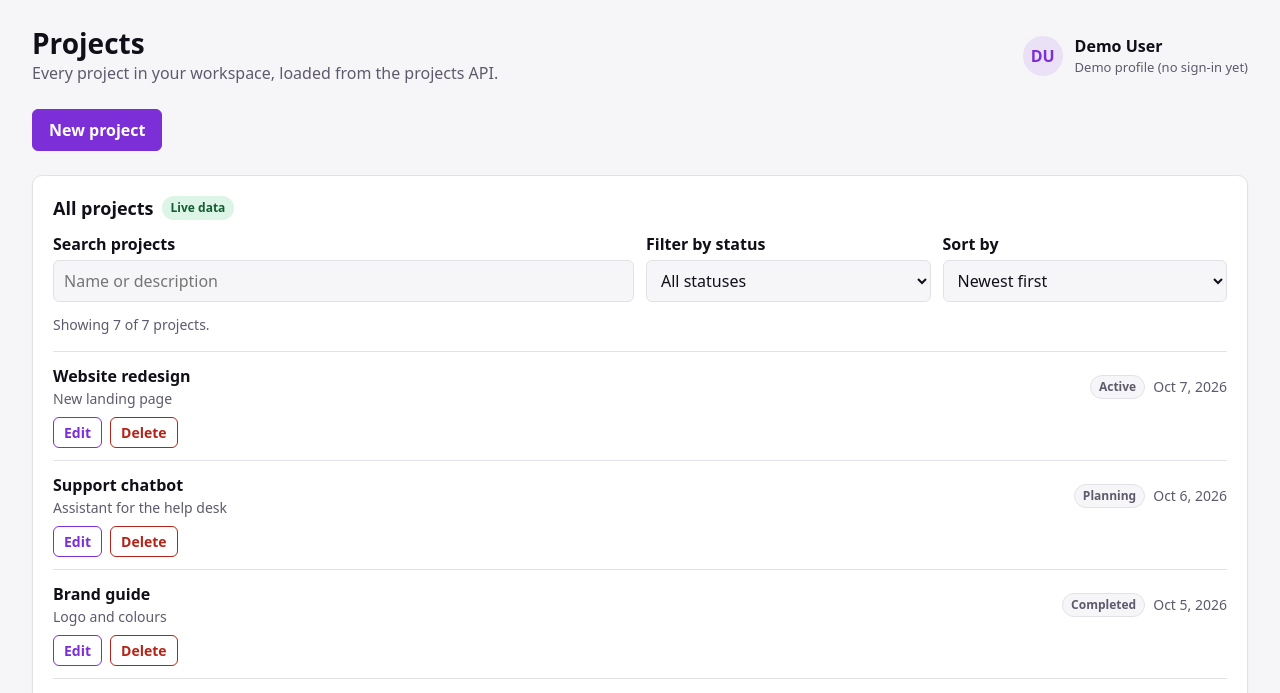
Test: Projects page: create, edit, delete › edits a project and shows the saved change
Click the button with aria-label "Edit Brand guide". click: (78, 650)
box: [53,635,102,666]
(page scrolled)
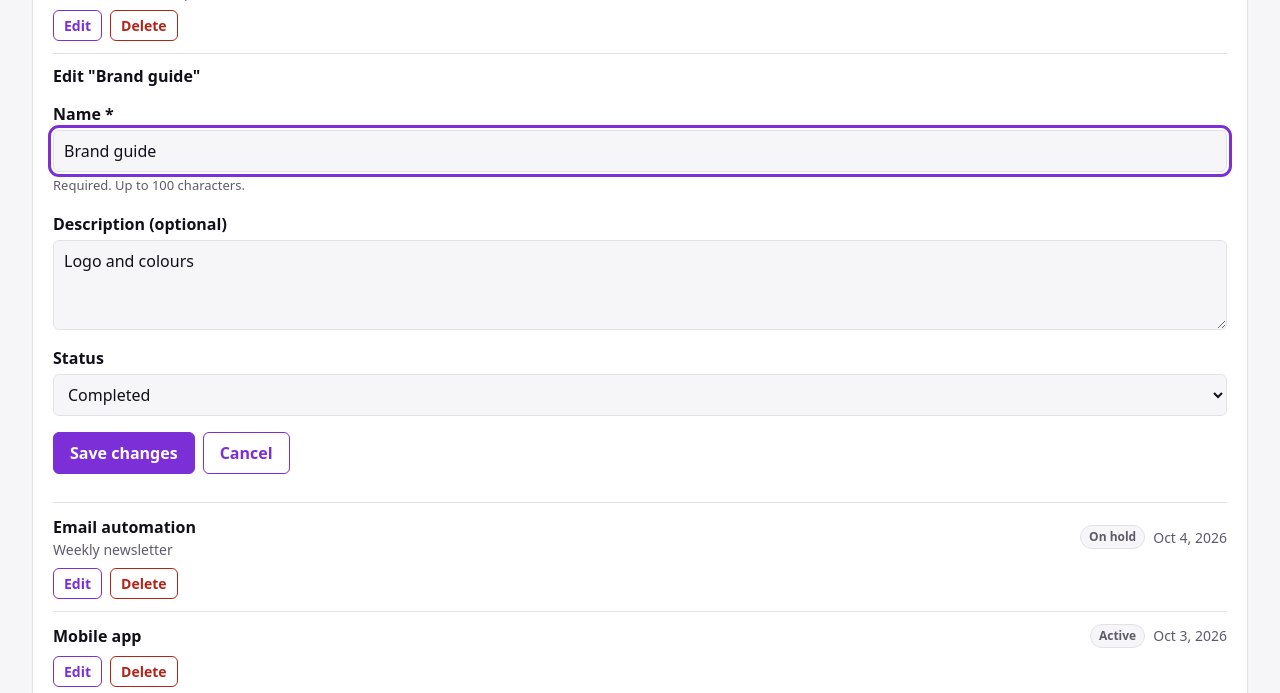
Select "On hold" in the dropdown labelled "Status". click: (640, 394)
box: [53,374,1227,416]
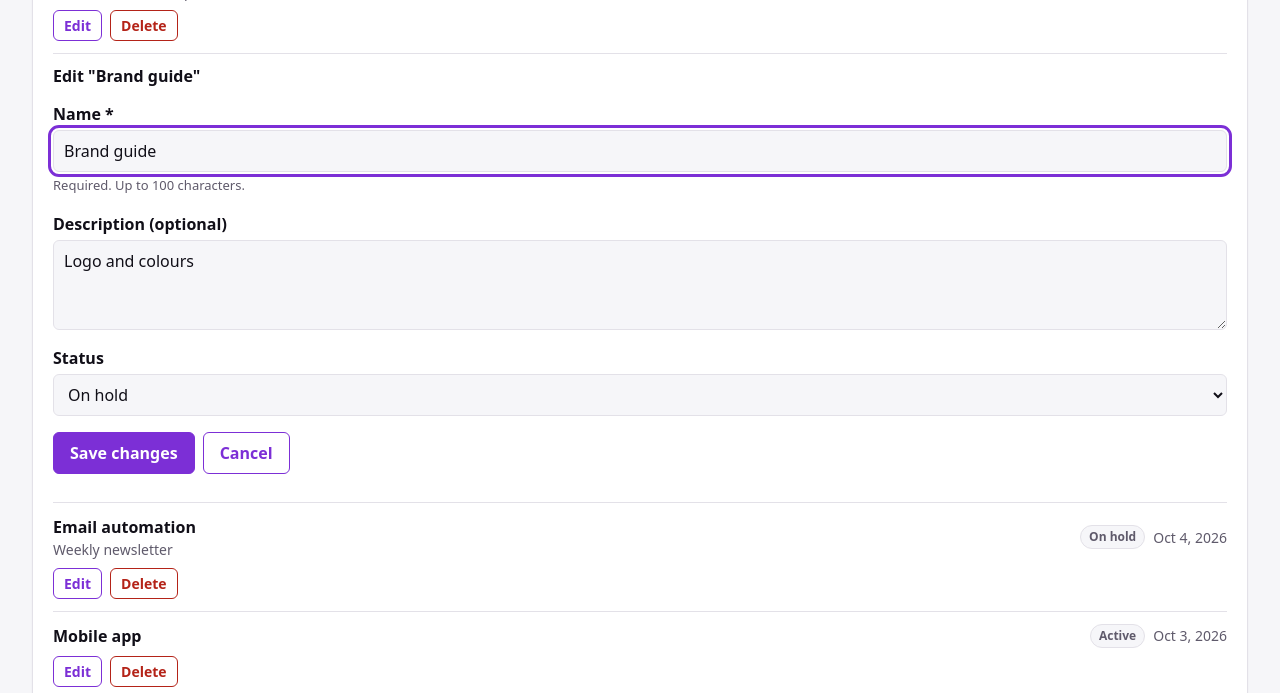
Click the button "Save changes". click: (124, 452)
box: [53,432,195,474]
(page scrolled)
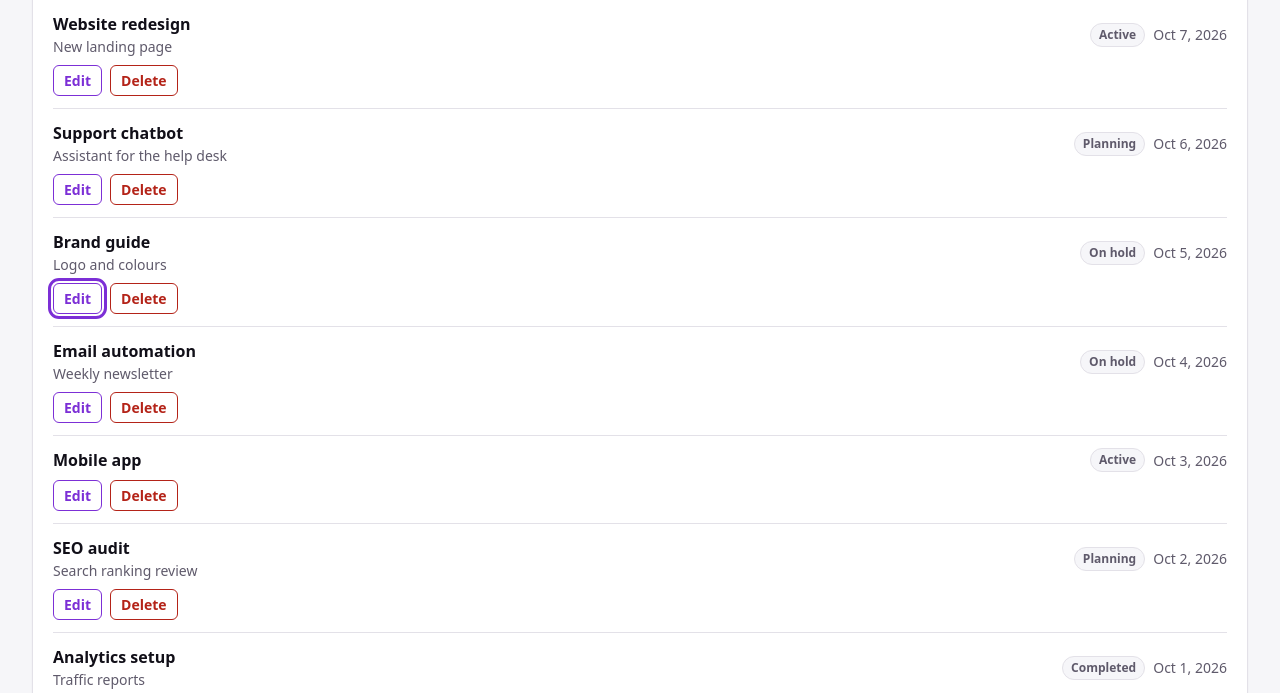
Result: the text "On hold" next to "Oct 5, 2026" is shown at [1089,244,1136,260]
